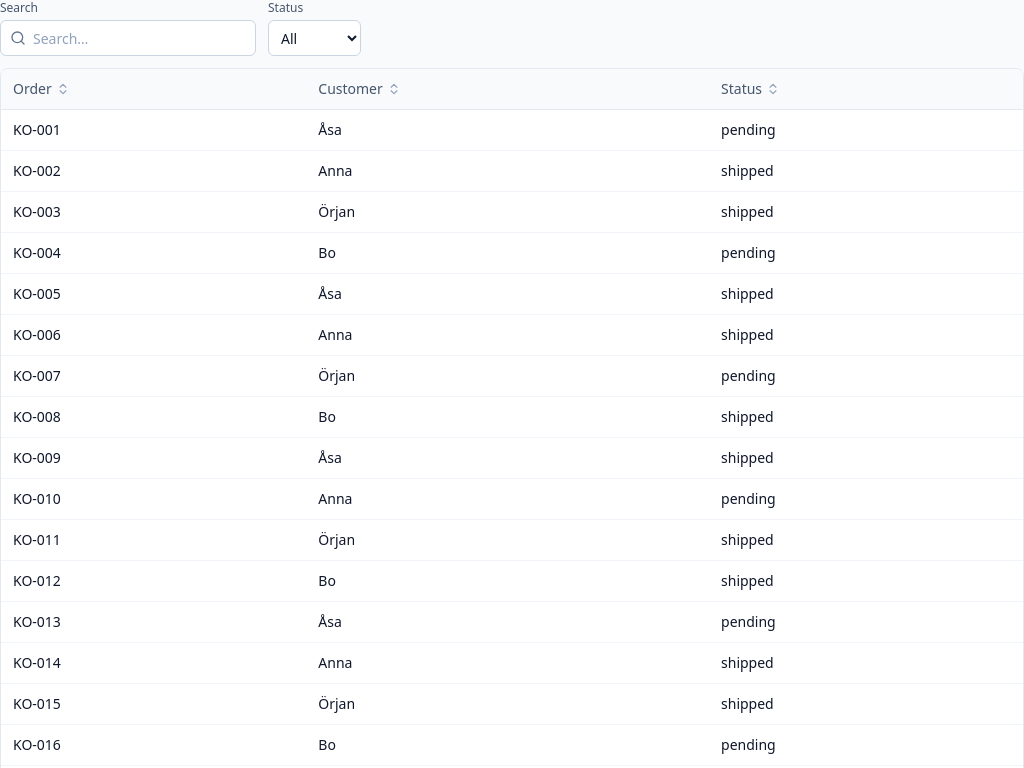
Test: DataTable › filters by a column and by the search box
The width and height of the screenshot is (1024, 768).
Select "Pending" in the dropdown labelled "Status": (314, 38) [268,20,361,56]
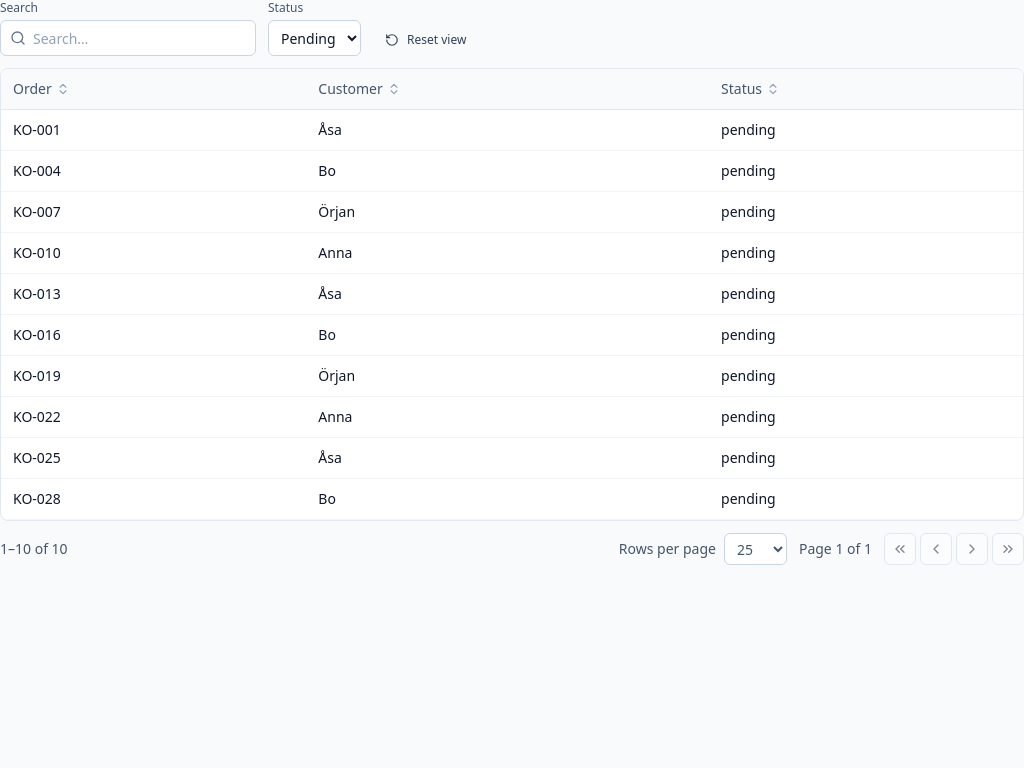
Expected: the text "1–10 of 10" is shown, [0,539,68,559]
In the search field labelled "Search": (128, 38) [0,20,256,56], type "KO-01"
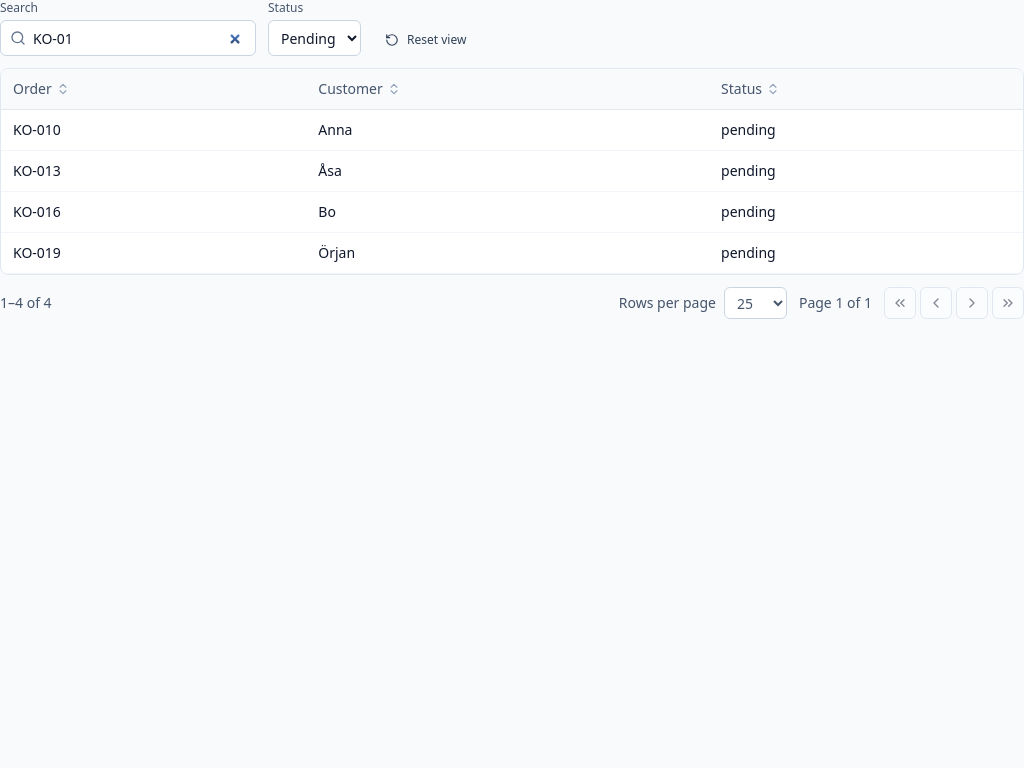
Click the button "Reset view": (426, 40) [373,24,478,56]
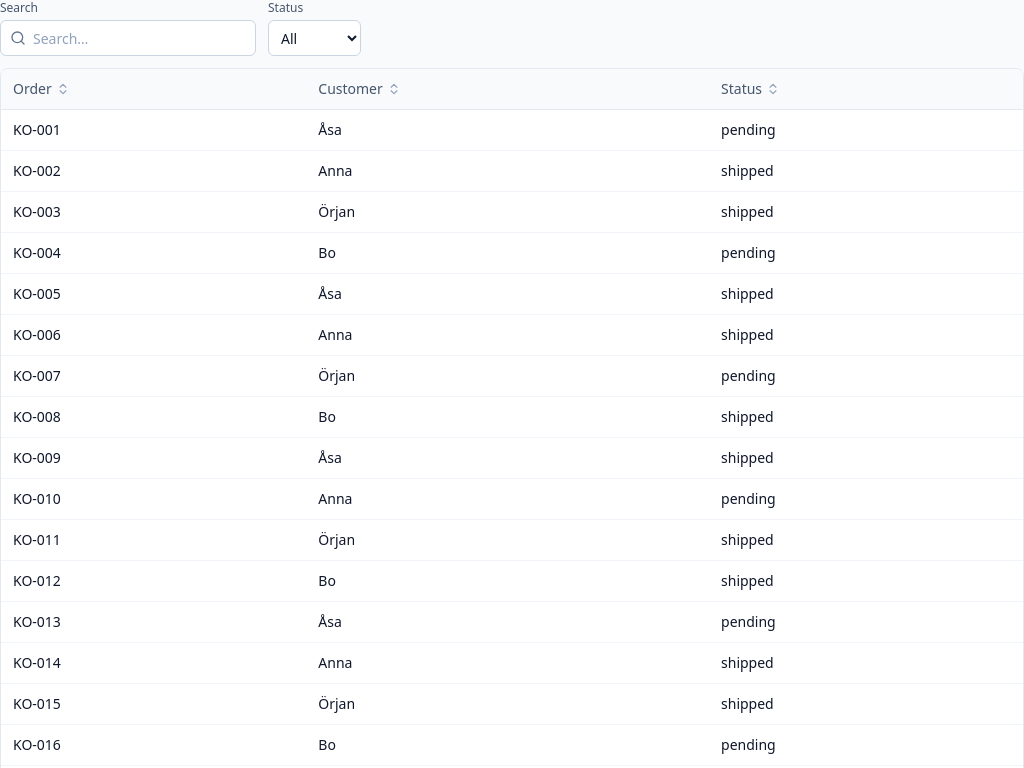
Expected: the search field labelled "Search" is empty, [0,20,256,56]
